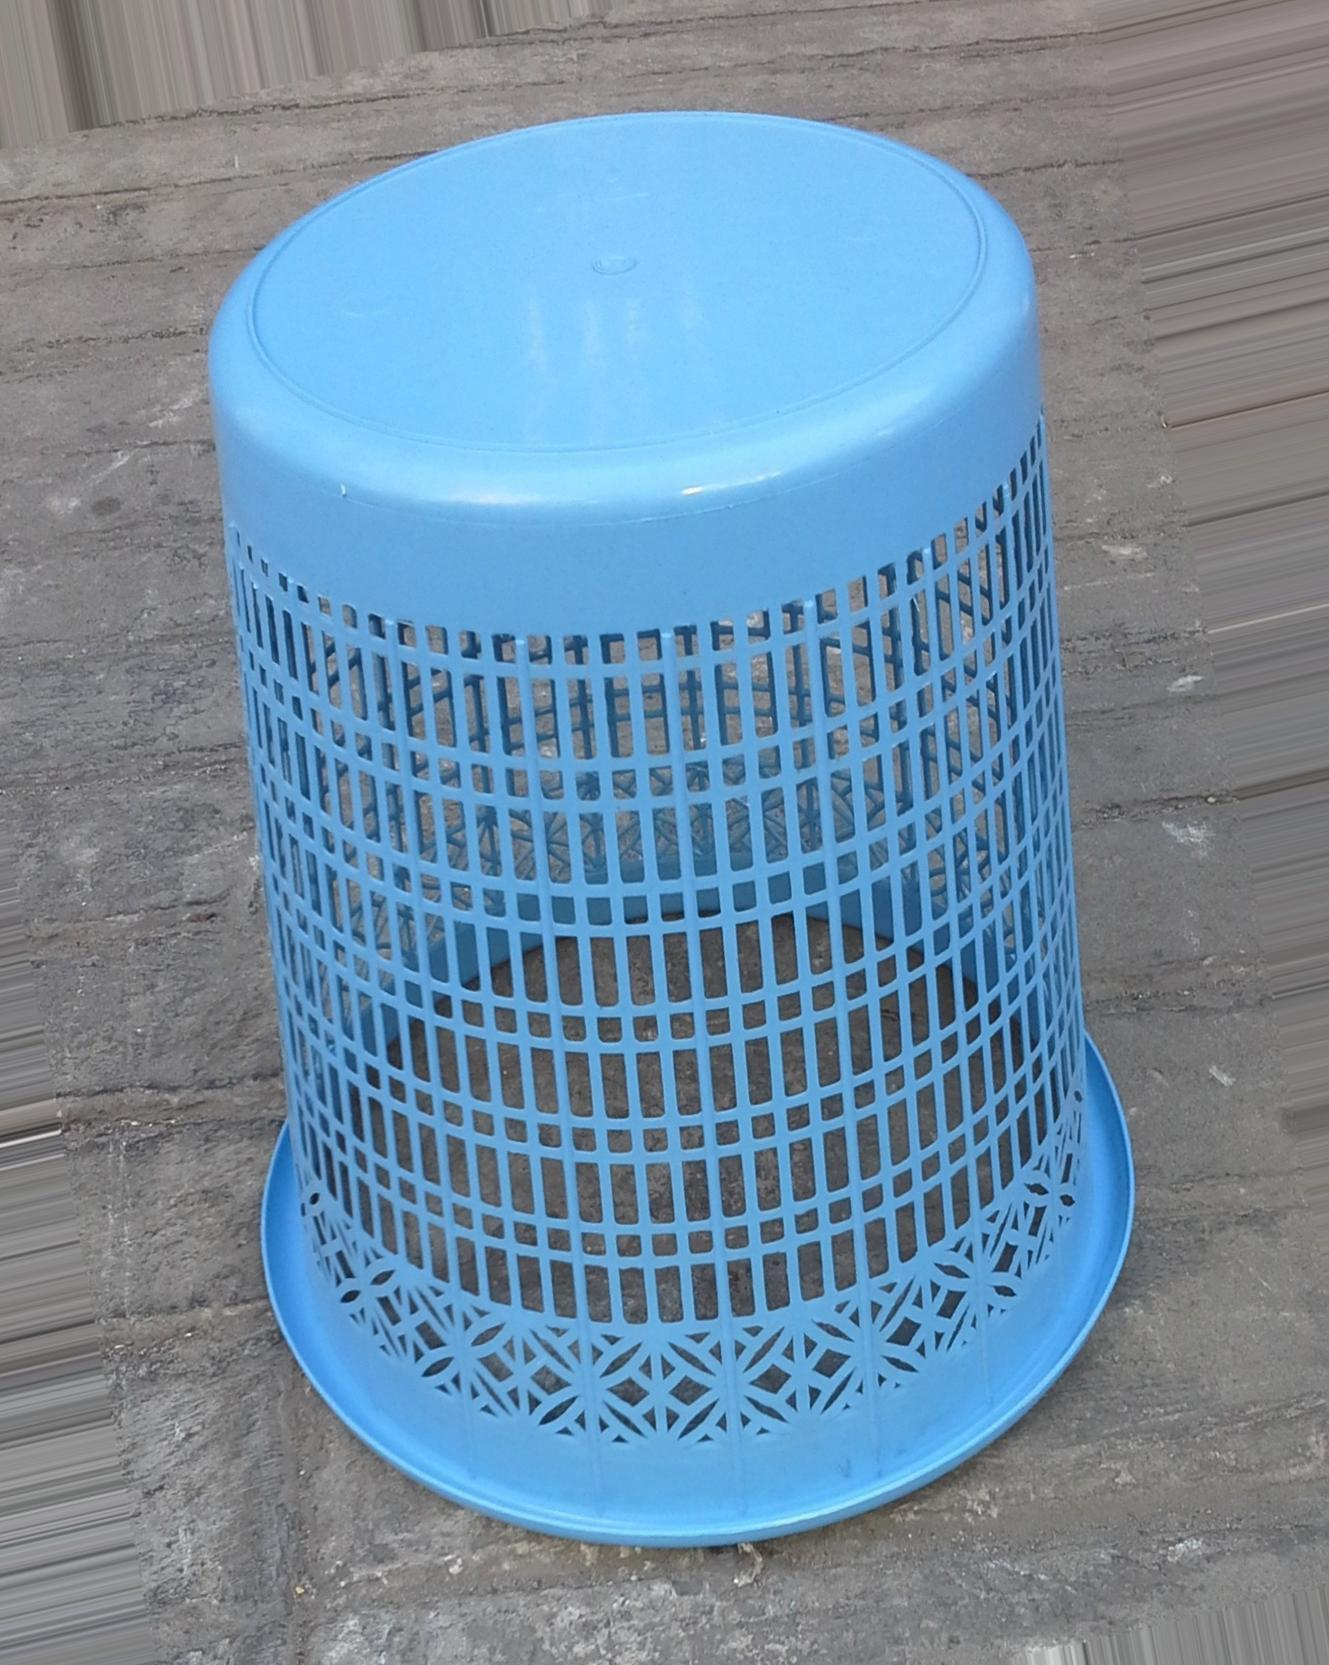Bote de Basura: (193, 119, 1136, 1547)
